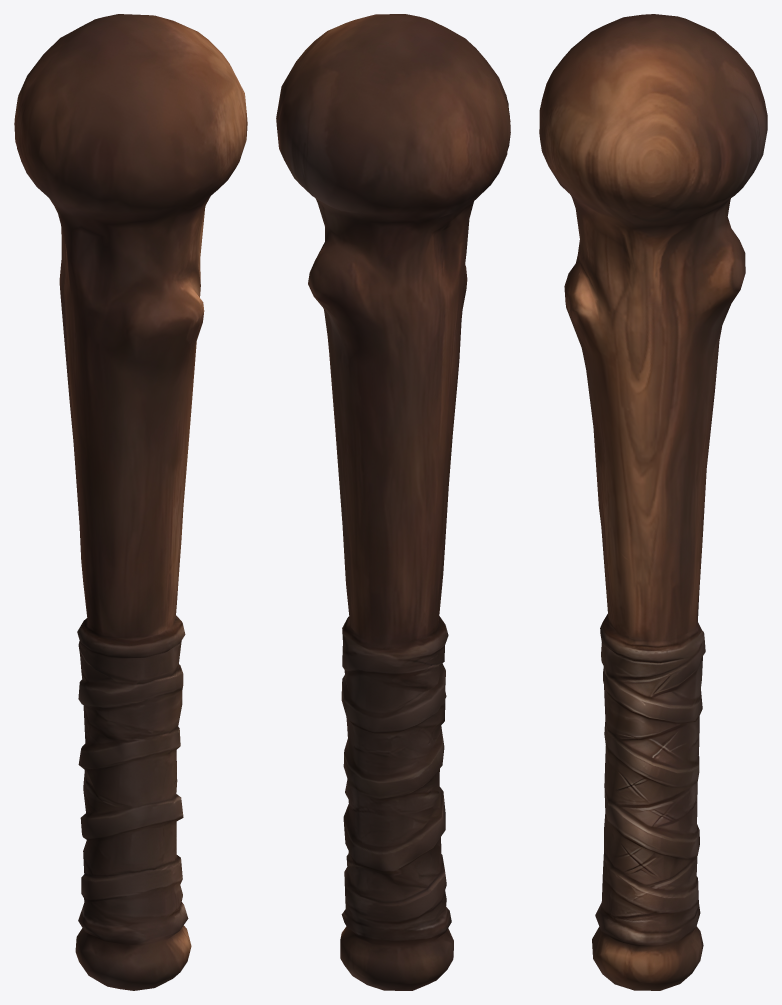
The model's file is porrete.glb.
The picture shows the model from 3 angles, left to right: view 1: azimuth 30°, elevation 25°; view 2: azimuth 150°, elevation 25°; view 3: azimuth 270°, elevation 25°; orthographic projection.
Parts seen in each view (by area): view 1: tripo_node_d3f7e6c3-48ee-44dd-86c4-d7d2a1be503e; view 2: tripo_node_d3f7e6c3-48ee-44dd-86c4-d7d2a1be503e; view 3: tripo_node_d3f7e6c3-48ee-44dd-86c4-d7d2a1be503e.
Boxes of the visible parts, bbox=[...] form: tripo_node_d3f7e6c3-48ee-44dd-86c4-d7d2a1be503e: bbox=[14, 14, 247, 990]; tripo_node_d3f7e6c3-48ee-44dd-86c4-d7d2a1be503e: bbox=[276, 14, 510, 990]; tripo_node_d3f7e6c3-48ee-44dd-86c4-d7d2a1be503e: bbox=[539, 14, 767, 990].
Bounding box in the file's own units: 0.1163 × 0.52 × 0.1121.
Materials: 1 (1 with a texture image).
